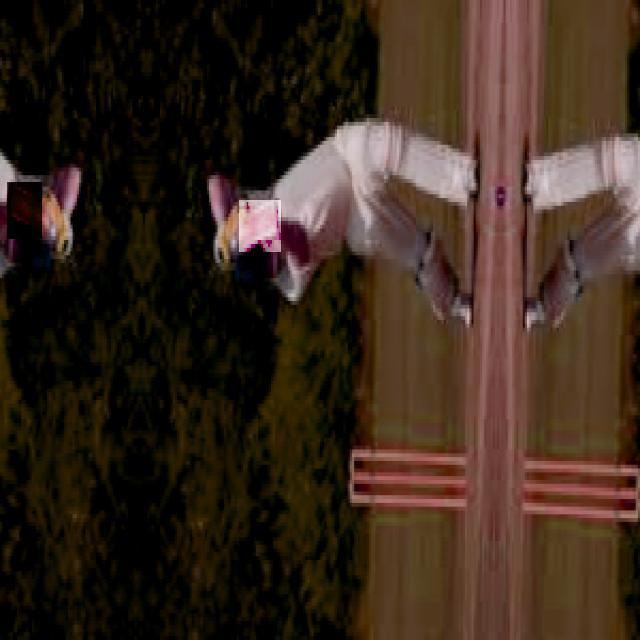bat: (240, 201, 281, 255)
toe: (272, 209, 280, 235)
